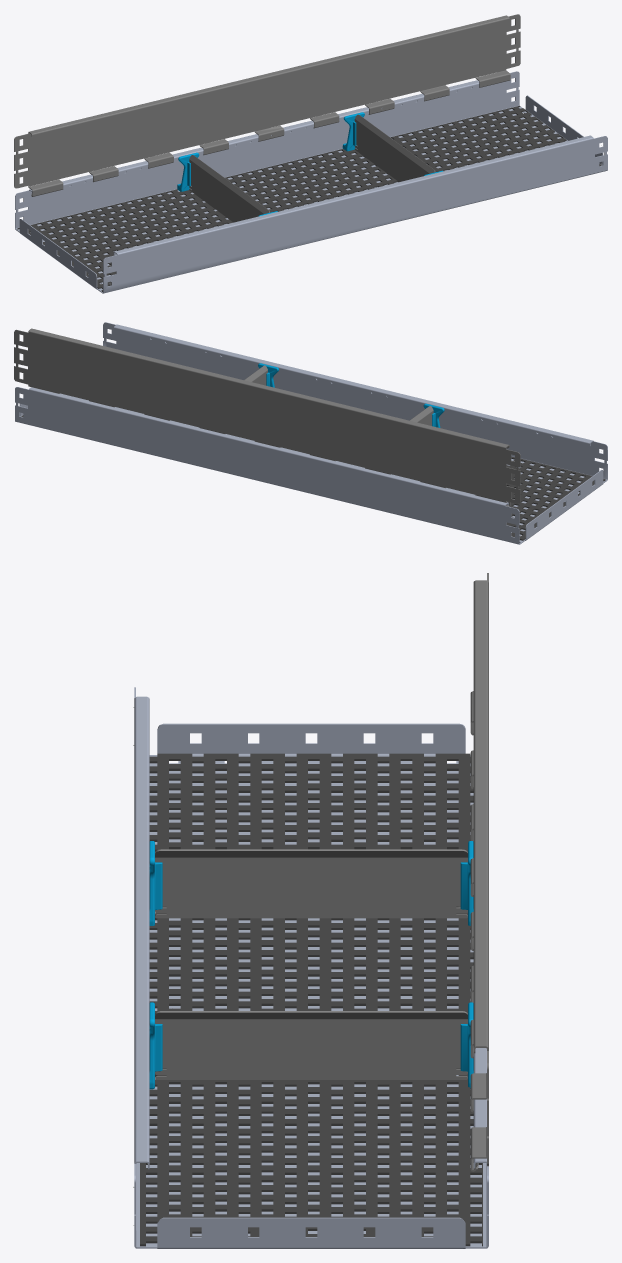
Rendered from KCP40531KMD02.glb.
3 views of the same model, one above another, from view 1: azimuth 30°, elevation 25°; view 2: azimuth 150°, elevation 25°; view 3: azimuth 270°, elevation 25° (orthographic). The views are drawn at different scales.
Parts seen in each view (by area): view 1: A-XDS40231-1, A-XSP40300-1, XDS40231SAC-1/TA20-31-1, XDS40231SAC-1/ZDS00231-2, XDS40231SAC-1/ZDS00231-1, XDS40231SAC-1/ZDH00200-4, XDS40231SAC-1/ZDH00200-1; view 2: A-XDS40231-1, A-XSP40300-1, XDS40231SAC-1/TA20-31-1; view 3: XDS40231SAC-1/TA20-31-1, A-XDS40231-1, XDS40231SAC-1/ZDS00231-1, XDS40231SAC-1/ZDS00231-2, A-XSP40300-1, XDS40231SAC-1/ZDH00200-3, XDS40231SAC-1/ZDH00200-2.
Part boxes in pixels (bbox=[...]): A-XDS40231-1: bbox=[15, 71, 607, 293]; A-XSP40300-1: bbox=[14, 14, 520, 196]; XDS40231SAC-1/TA20-31-1: bbox=[17, 105, 601, 291]; XDS40231SAC-1/ZDS00231-2: bbox=[354, 114, 435, 181]; XDS40231SAC-1/ZDS00231-1: bbox=[189, 155, 269, 222]; XDS40231SAC-1/ZDH00200-4: bbox=[342, 112, 364, 151]; XDS40231SAC-1/ZDH00200-1: bbox=[177, 152, 199, 191]; A-XDS40231-1: bbox=[15, 322, 607, 544]; A-XSP40300-1: bbox=[14, 328, 520, 506]; XDS40231SAC-1/TA20-31-1: bbox=[21, 415, 605, 542]; XDS40231SAC-1/TA20-31-1: bbox=[140, 753, 482, 1246]; A-XDS40231-1: bbox=[134, 687, 488, 1248]; XDS40231SAC-1/ZDS00231-1: bbox=[155, 849, 467, 918]; XDS40231SAC-1/ZDS00231-2: bbox=[155, 1011, 467, 1079]; A-XSP40300-1: bbox=[470, 573, 488, 1171]; XDS40231SAC-1/ZDH00200-3: bbox=[149, 1002, 162, 1089]; XDS40231SAC-1/ZDH00200-2: bbox=[149, 841, 162, 925].
Size of the model in its own units: 1.01 by 0.1803 by 0.307.
